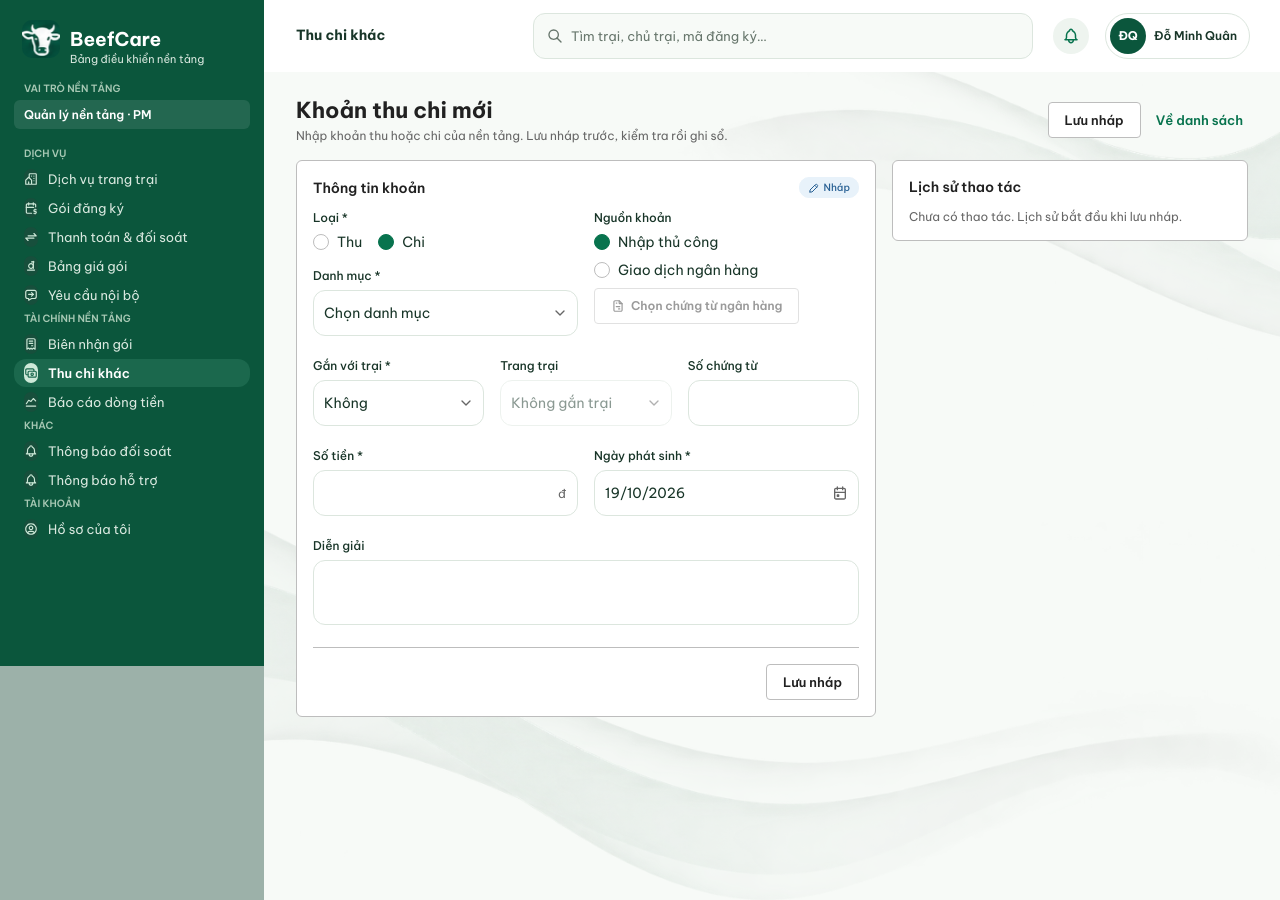
Scenario: SCR-72 form khoản: nguồn ngân hàng › chọn giao dịch hiện số tiền và ngày chỉ đọc; đổi Thu/Chi thì bỏ giao dịch đã chọn
Click the radio button labelled "Thu" at {"x": 338, "y": 242}, box [313, 232, 362, 252]
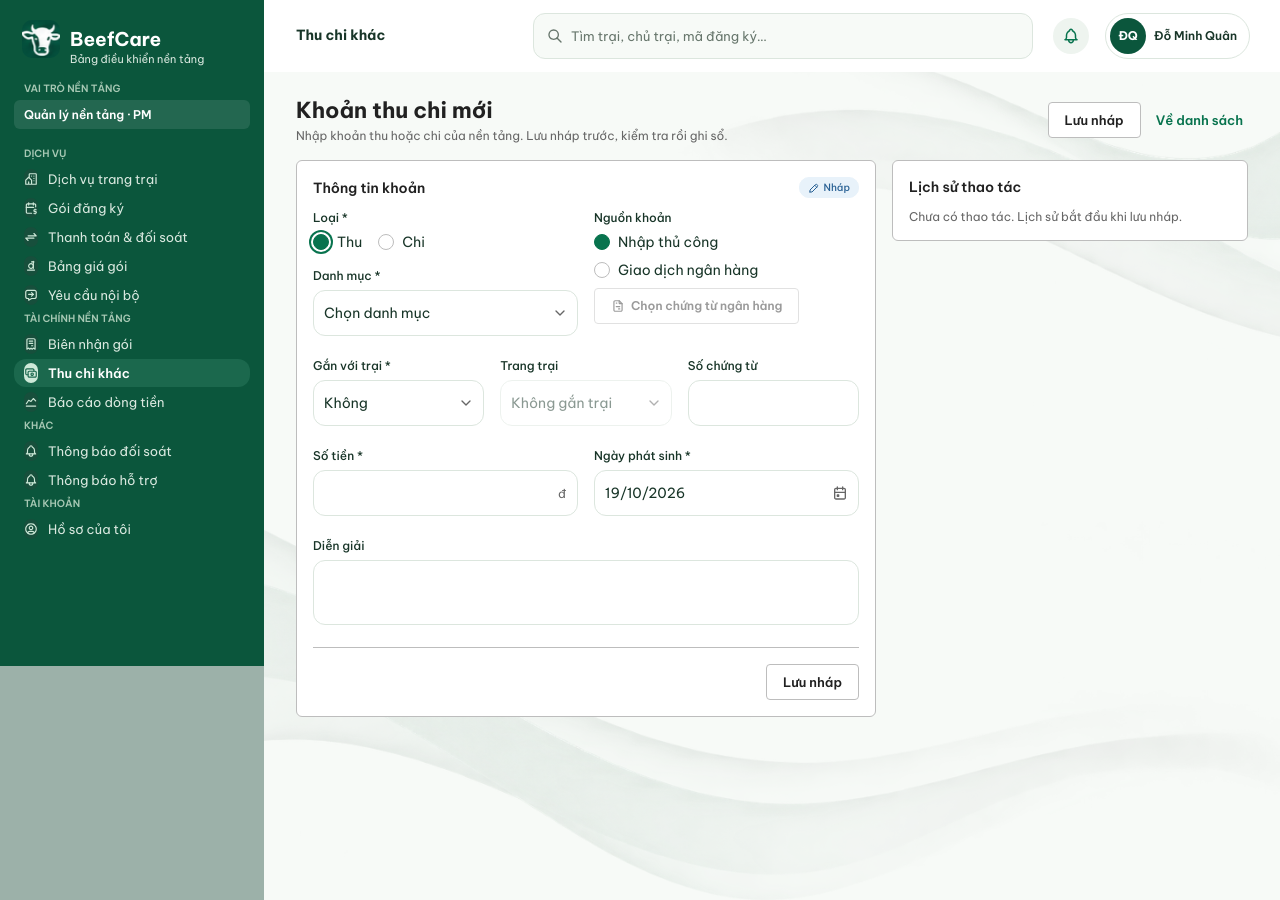
Click the radio button labelled "Giao dịch ngân hàng" at {"x": 676, "y": 270}, box [594, 260, 758, 280]
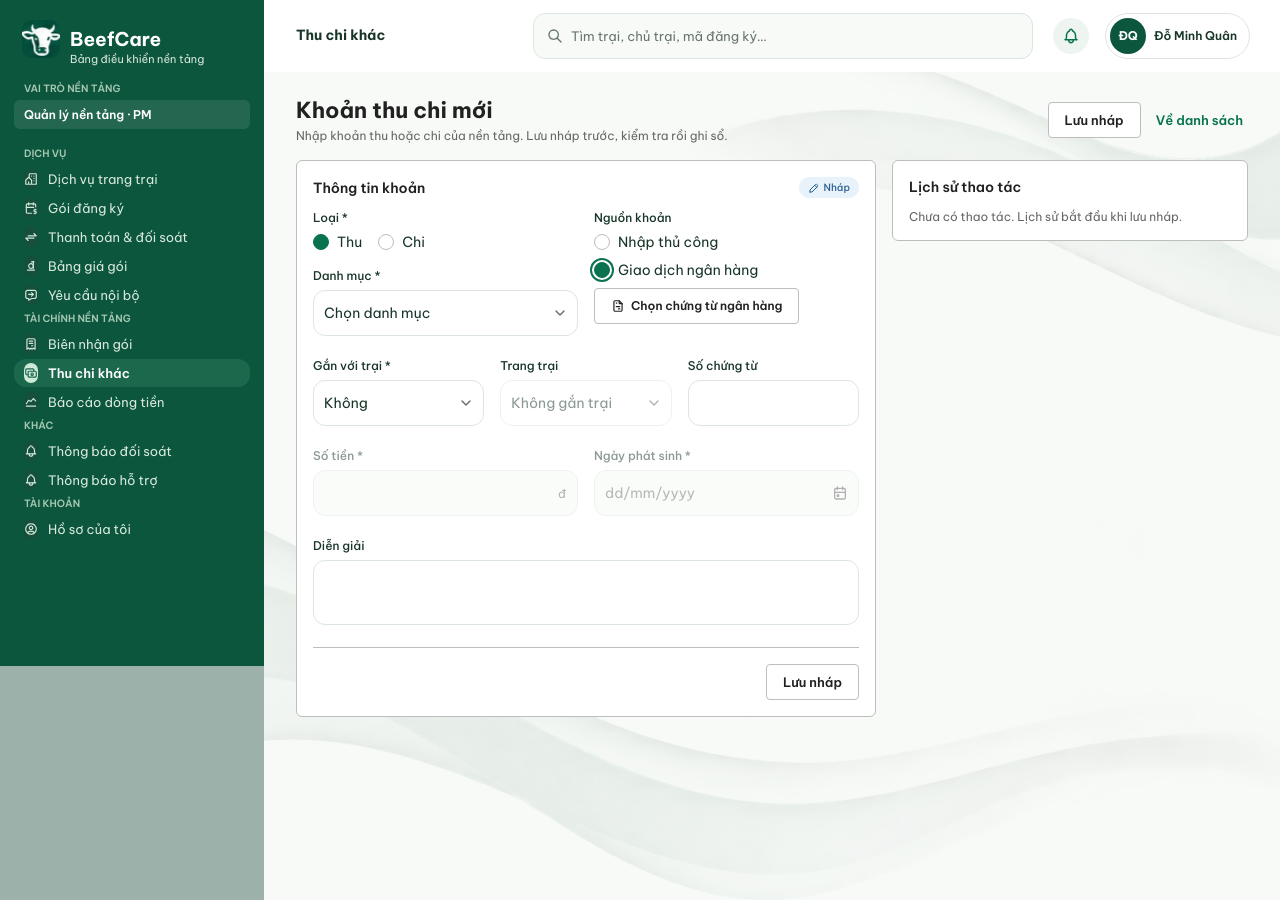
Click the button "Chọn chứng từ ngân hàng" at {"x": 697, "y": 306}, box [594, 288, 799, 324]
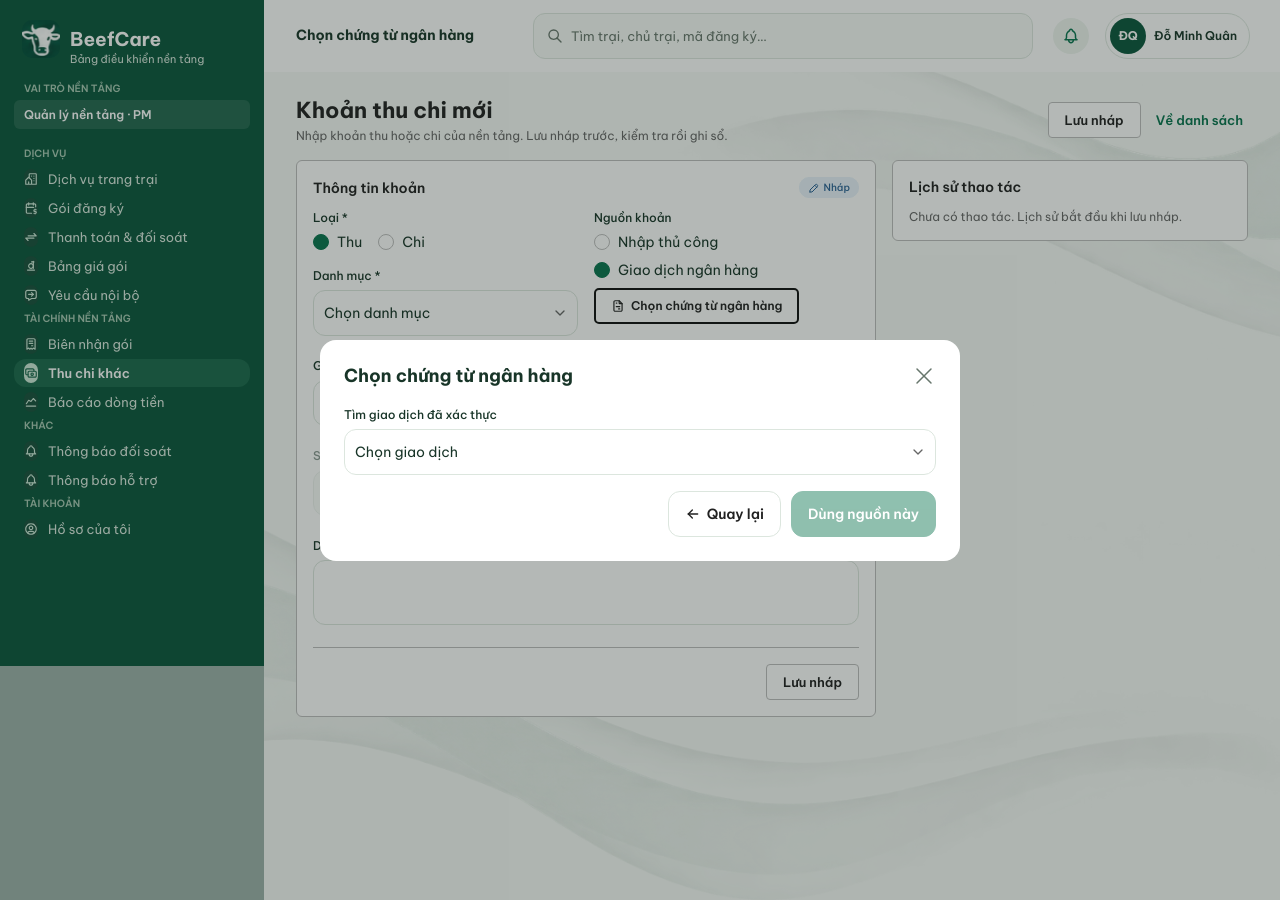
Select "EV-0846 · FT26294… · 14/10/2026" in the dropdown labelled "Tìm giao dịch đã xác thực" at {"x": 640, "y": 452}, box [344, 428, 936, 474]
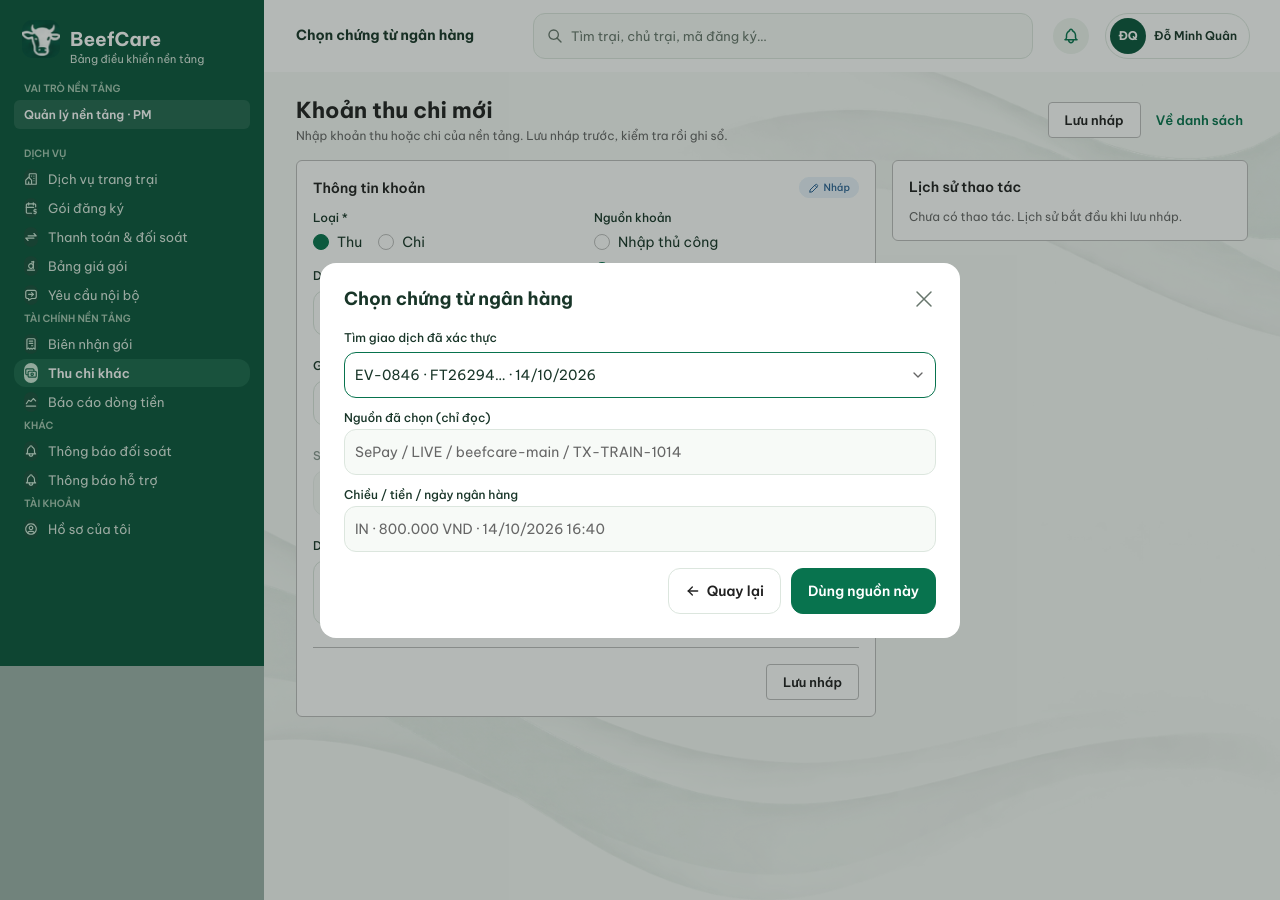
Click the button "Dùng nguồn này" at {"x": 863, "y": 590}, box [791, 568, 936, 614]
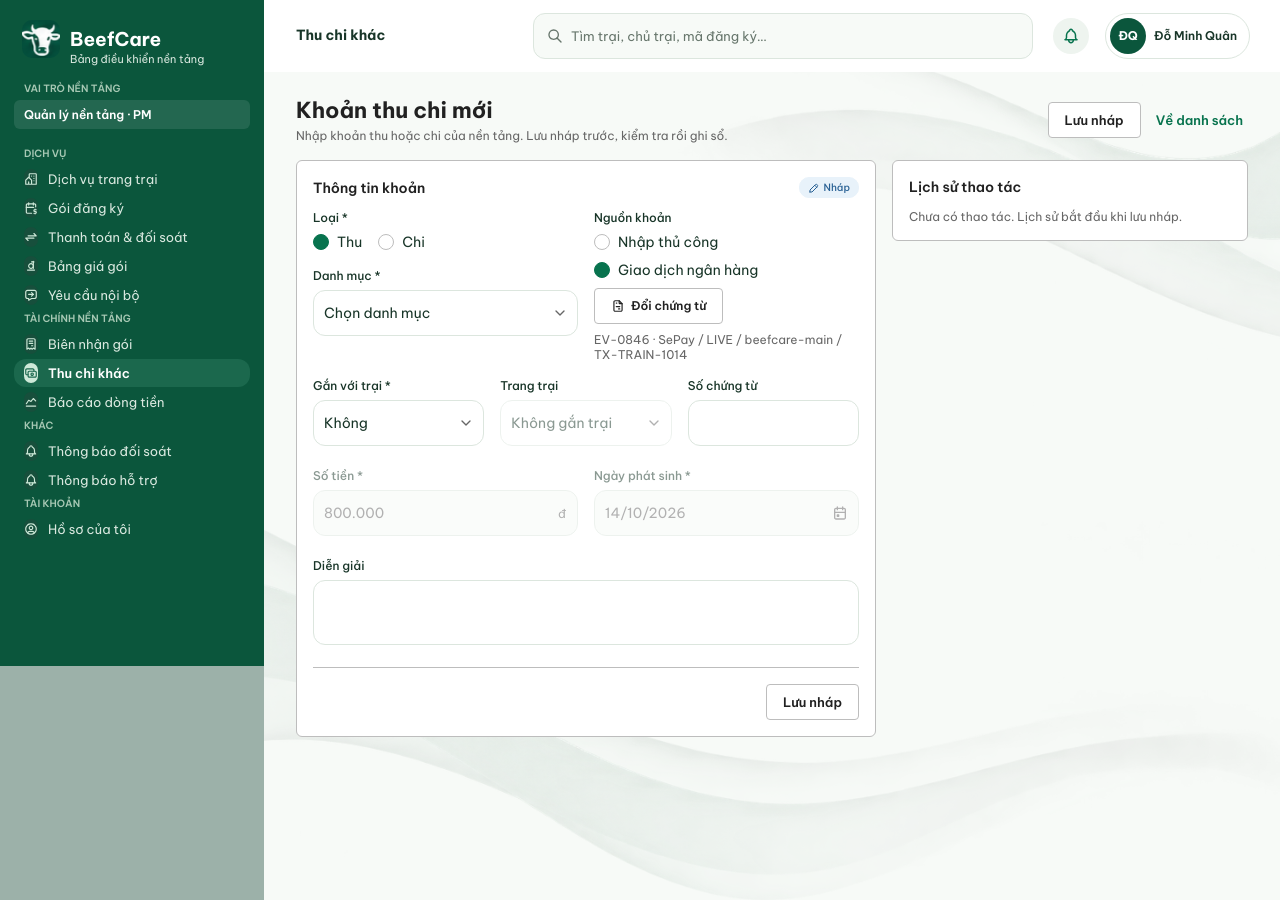
Check: the field with id "fr-amount" holds "800.000", box [313, 490, 578, 536]
Click the radio button labelled "Chi" at {"x": 402, "y": 242}, box [378, 232, 425, 252]
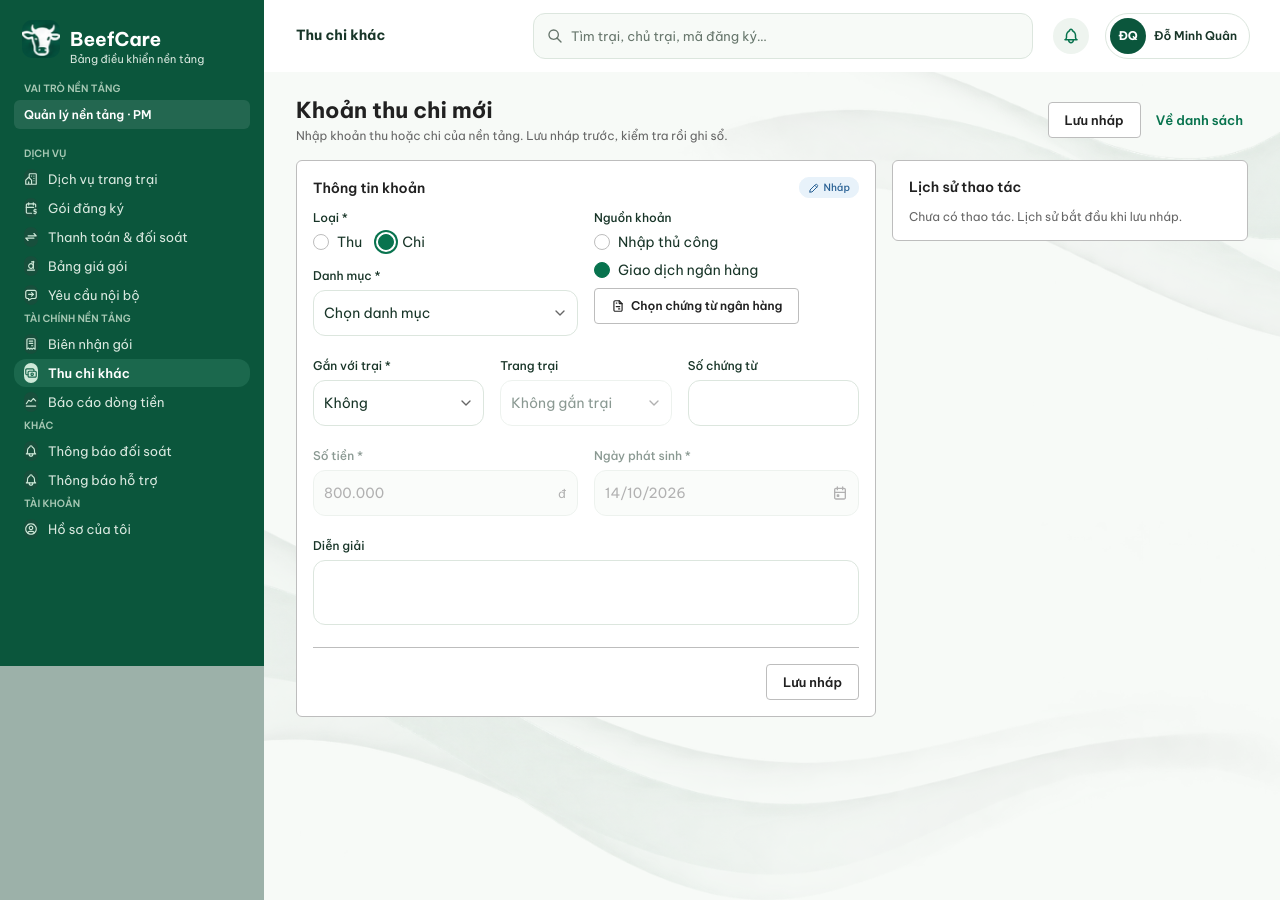
Check: the field with id "fr-amount" holds "800.000", box [313, 470, 578, 516]
Check: the text "EV-0846" is gone
